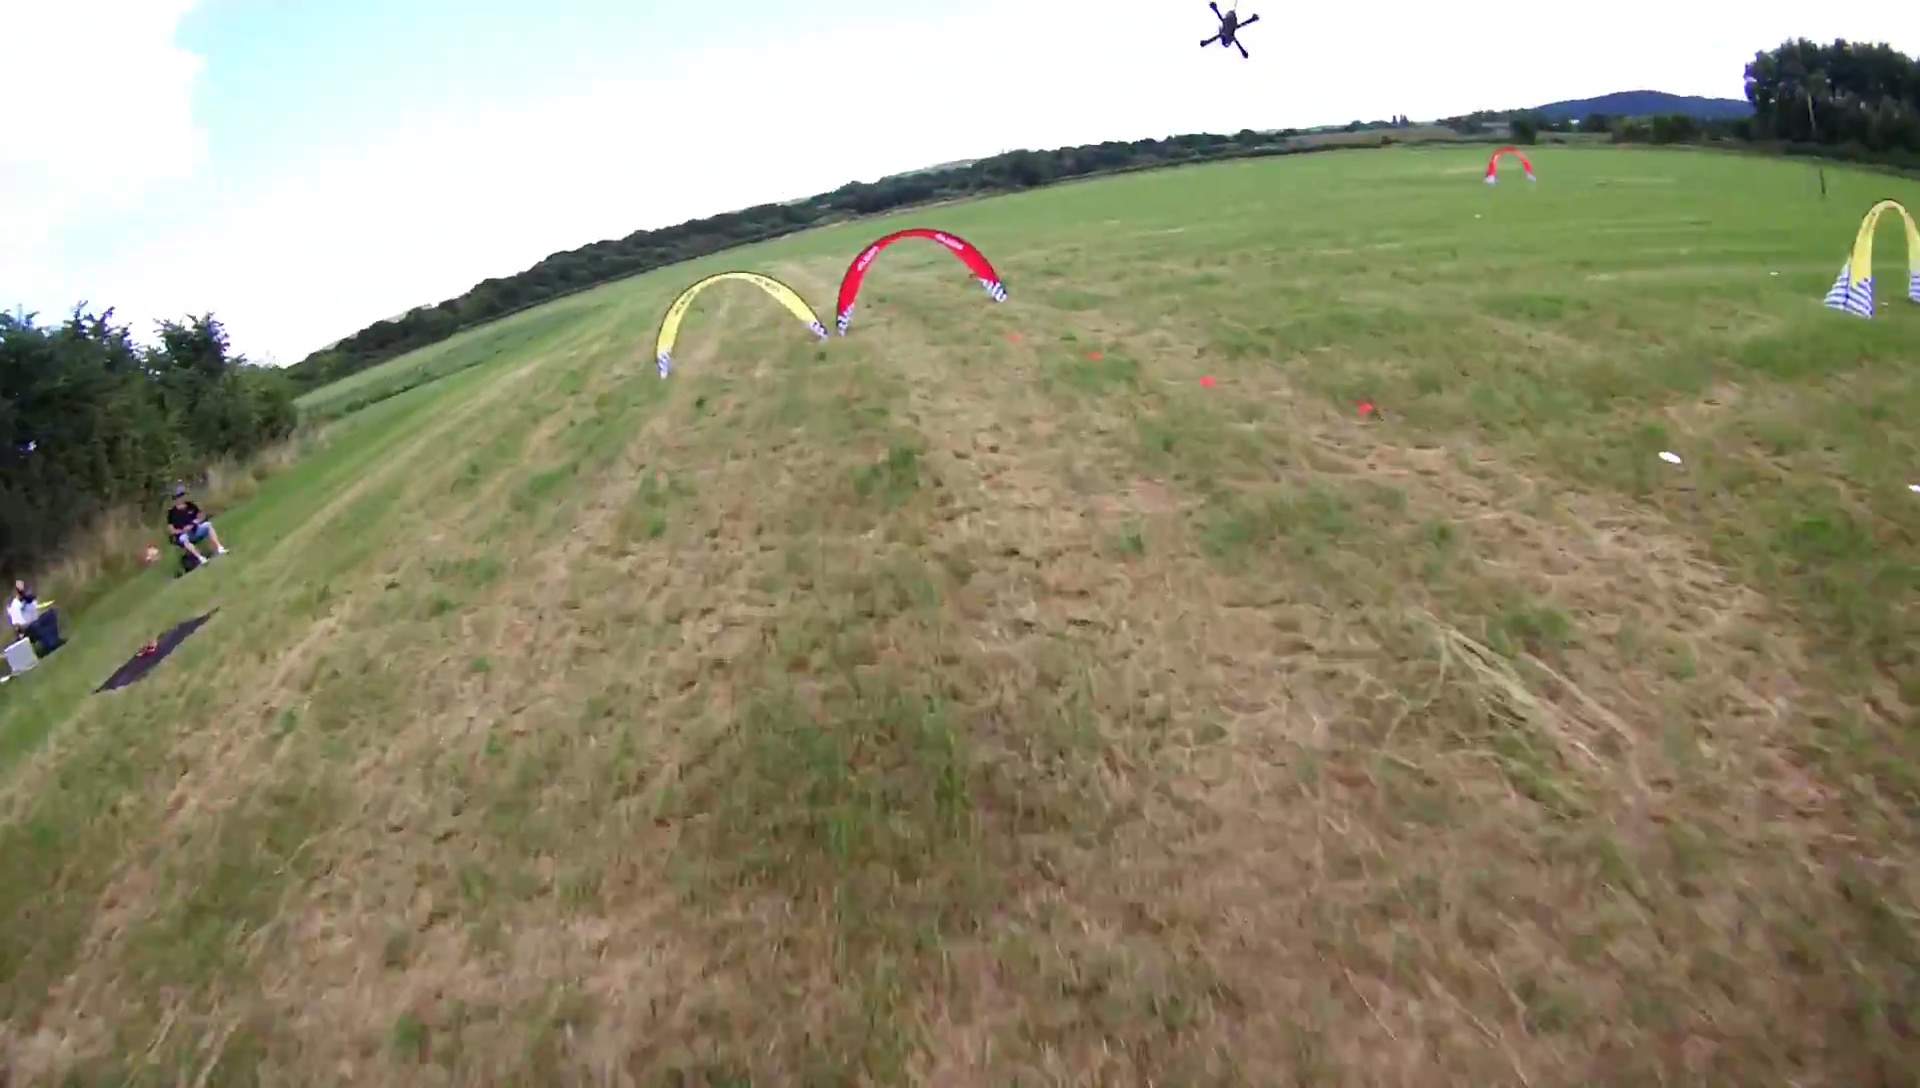gate: (654, 268, 831, 380), (833, 226, 1007, 338), (1821, 196, 1920, 317), (1484, 142, 1538, 189)
